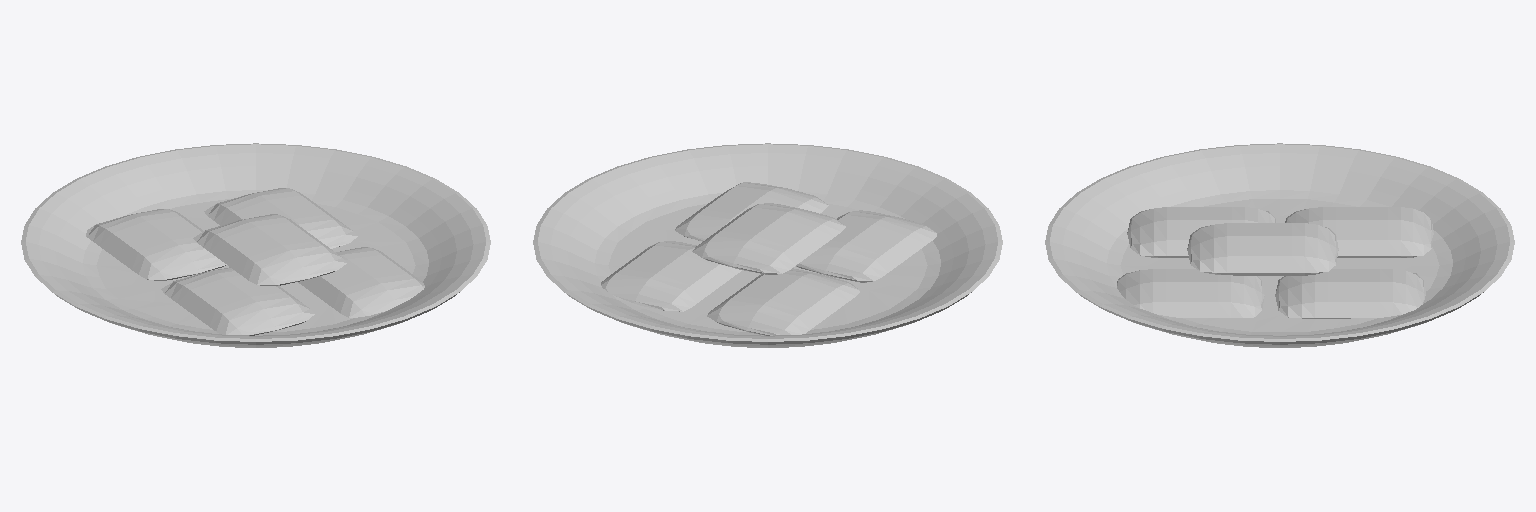
The model's file is kue bantal.obj.
3 renders of one model, left to right at view 1: azimuth 30°, elevation 25°; view 2: azimuth 150°, elevation 25°; view 3: azimuth 270°, elevation 25°, orthographic.
Parts seen in each view (by area): view 1: Cylinder, Cube.002, Cube.001, Cube.003, Cube, Cube.004; view 2: Cylinder, Cube.002, Cube.003, Cube.004, Cube.001, Cube; view 3: Cylinder, Cube.002, Cube.004, Cube, Cube.003, Cube.001.
Boxes of the visible parts, x1=… form: Cylinder: x1=21, y1=143, x2=490, y2=347; Cube.002: x1=193, y1=214, x2=346, y2=285; Cube.001: x1=161, y1=267, x2=314, y2=335; Cube.003: x1=86, y1=209, x2=226, y2=280; Cube: x1=298, y1=247, x2=424, y2=317; Cube.004: x1=204, y1=188, x2=357, y2=248; Cylinder: x1=533, y1=143, x2=1002, y2=347; Cube.002: x1=692, y1=203, x2=845, y2=274; Cube.003: x1=707, y1=268, x2=859, y2=335; Cube.004: x1=601, y1=241, x2=741, y2=311; Cube.001: x1=796, y1=210, x2=936, y2=282; Cube: x1=675, y1=182, x2=828, y2=241; Cylinder: x1=1045, y1=143, x2=1514, y2=347; Cube.002: x1=1187, y1=223, x2=1338, y2=275; Cube.004: x1=1275, y1=269, x2=1425, y2=318; Cube: x1=1117, y1=269, x2=1264, y2=317; Cube.003: x1=1285, y1=207, x2=1433, y2=257; Cube.001: x1=1127, y1=207, x2=1276, y2=257.
Bounding box in the file's own units: 2.31 × 0.253 × 2.31.